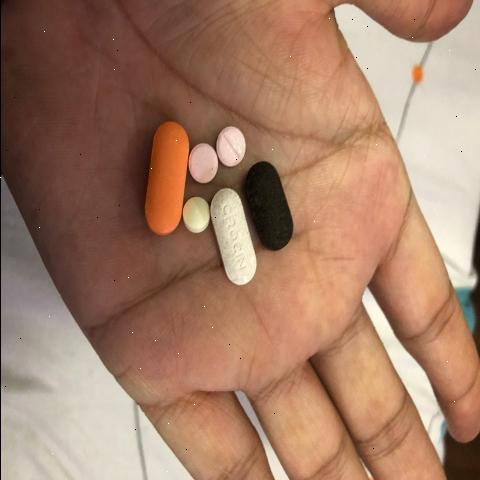Pill: (210, 192, 254, 294), (186, 142, 214, 193), (218, 122, 248, 168), (183, 192, 211, 241), (217, 128, 244, 168)
